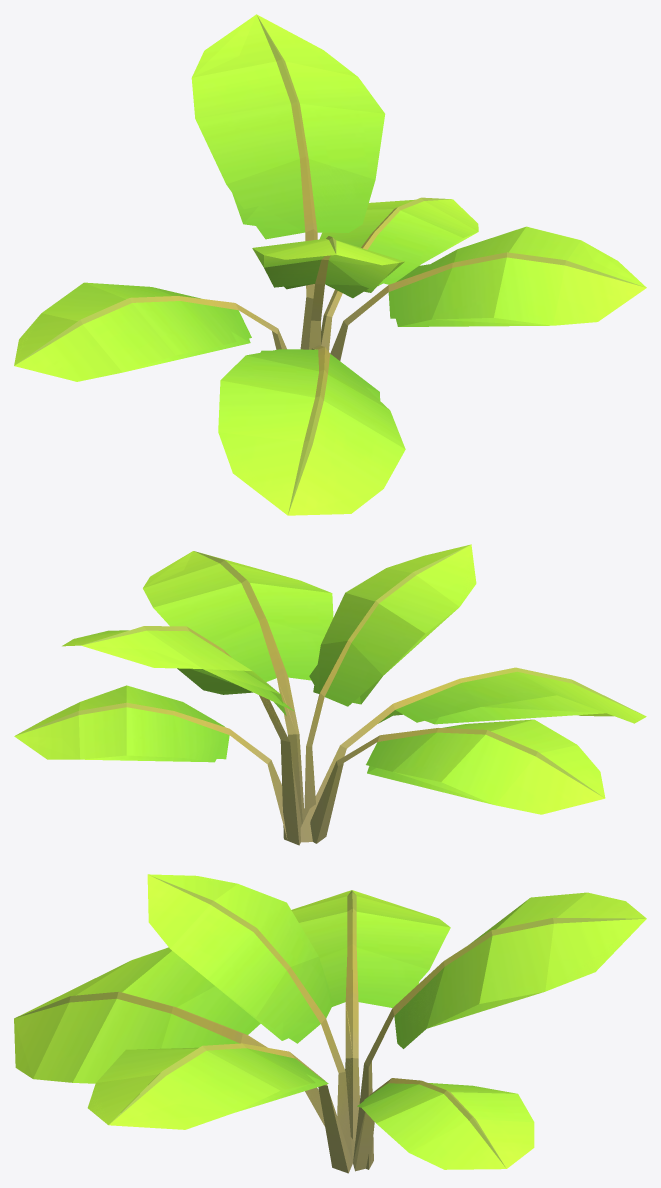
The model's file is small-plant-2.glb.
3 views of the same model, one above another, from view 1: azimuth 30°, elevation 25°; view 2: azimuth 150°, elevation 25°; view 3: azimuth 270°, elevation 25° (orthographic). The views are drawn at different scales.
Parts seen in each view (by area): view 1: SmallPlant2_L0; view 2: SmallPlant2_L0; view 3: SmallPlant2_L0.
Part boxes in pixels (bbox=[...]): SmallPlant2_L0: bbox=[14, 14, 646, 515]; SmallPlant2_L0: bbox=[14, 544, 646, 845]; SmallPlant2_L0: bbox=[14, 874, 646, 1173].
Size of the model in its own units: 3.9 by 1.9 by 3.78.
1 material, 1 textured.
